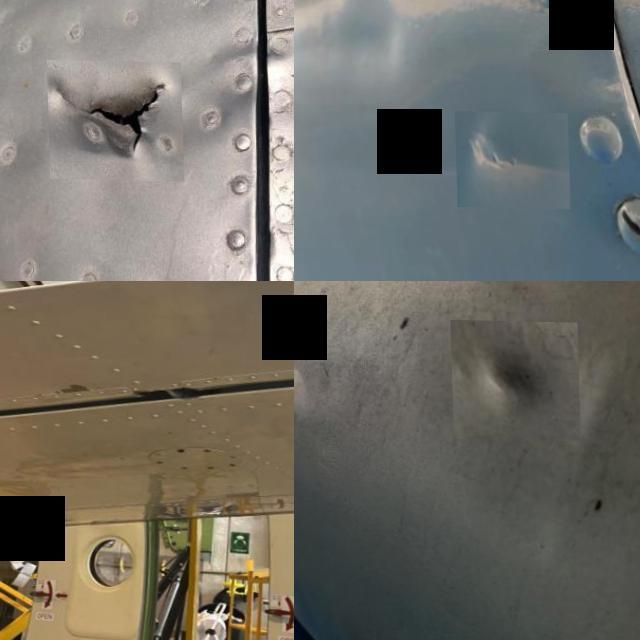Crack: (45, 59, 182, 180)
Dent: (448, 318, 578, 439), (453, 110, 568, 208)
Missing_Fastener: (226, 461, 236, 467), (172, 447, 182, 452)
